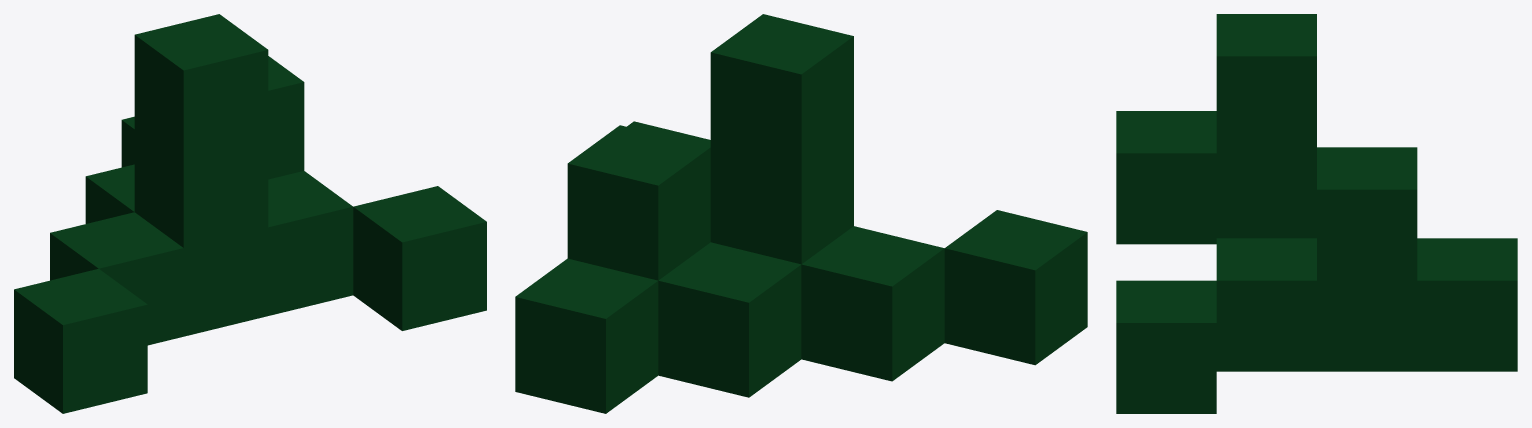
The model's file is GrassPiece2.fbx.
The picture shows the model from 3 angles, left to right: view 1: azimuth 30°, elevation 25°; view 2: azimuth 150°, elevation 25°; view 3: azimuth 270°, elevation 25°; orthographic projection. The views are drawn at different scales.
Visible parts, largest first — view 1: Matrix_Piece0_0_0_Piece1_0_0; view 2: Matrix_Piece0_0_0_Piece1_0_0; view 3: Matrix_Piece0_0_0_Piece1_0_0.
Boxes of the visible parts, <box> form: Matrix_Piece0_0_0_Piece1_0_0: <box>14,14,486,413</box>; Matrix_Piece0_0_0_Piece1_0_0: <box>515,14,1087,413</box>; Matrix_Piece0_0_0_Piece1_0_0: <box>1116,14,1517,413</box>.
Size of the model in its own units: 5 by 3 by 4.
1 material, 1 textured.
